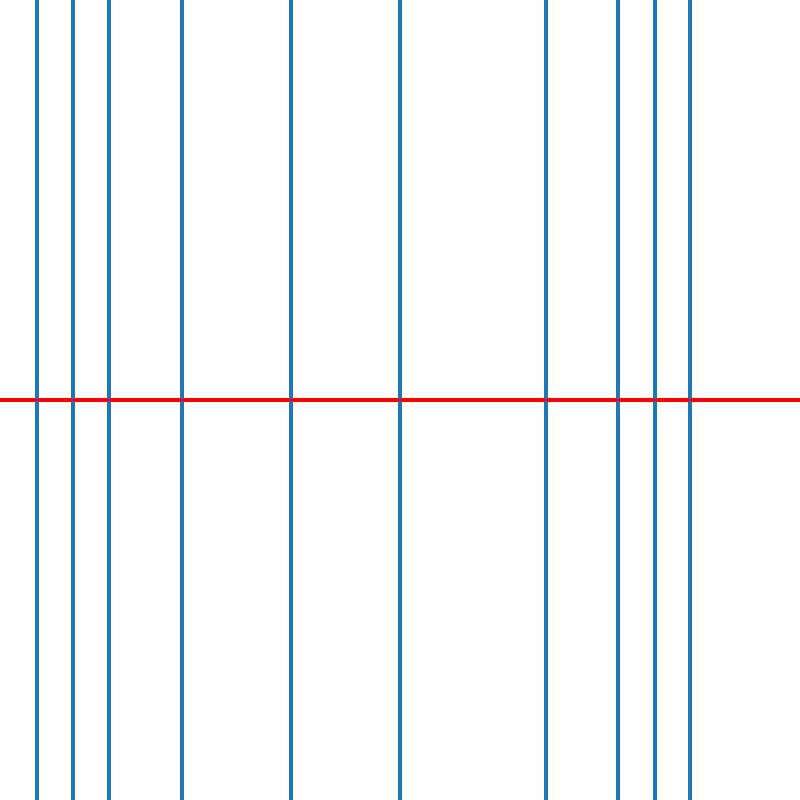root: (650, 396, 658, 404), (541, 396, 549, 404), (32, 396, 40, 404), (105, 396, 112, 404), (69, 396, 76, 404), (178, 396, 185, 404), (396, 396, 403, 404), (687, 396, 694, 404), (614, 396, 621, 404), (287, 396, 294, 404)
